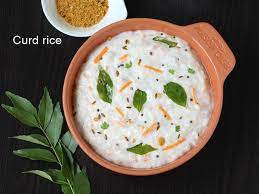curd_rice: (69, 27, 221, 168)
